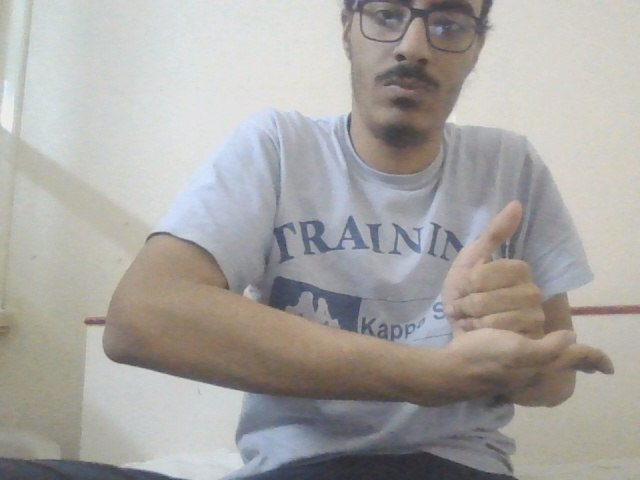Help: (438, 197, 622, 416)
